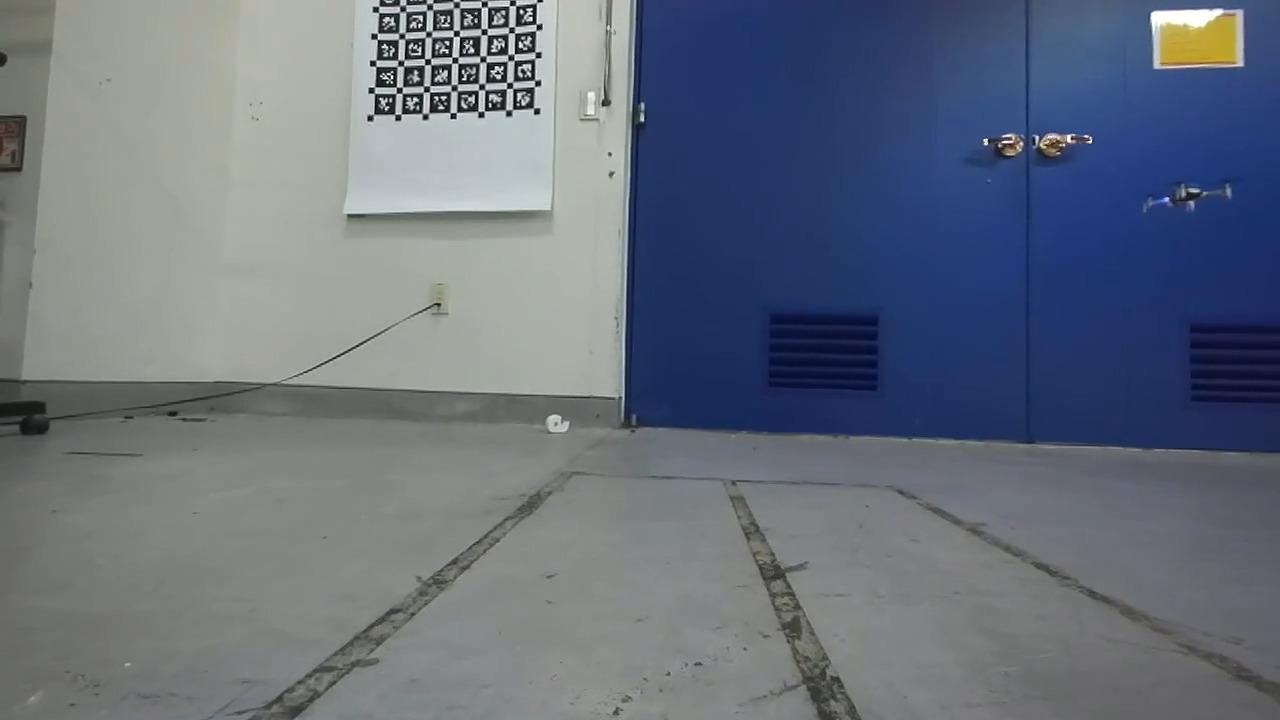crazyflie: (1136, 176, 1240, 216)
